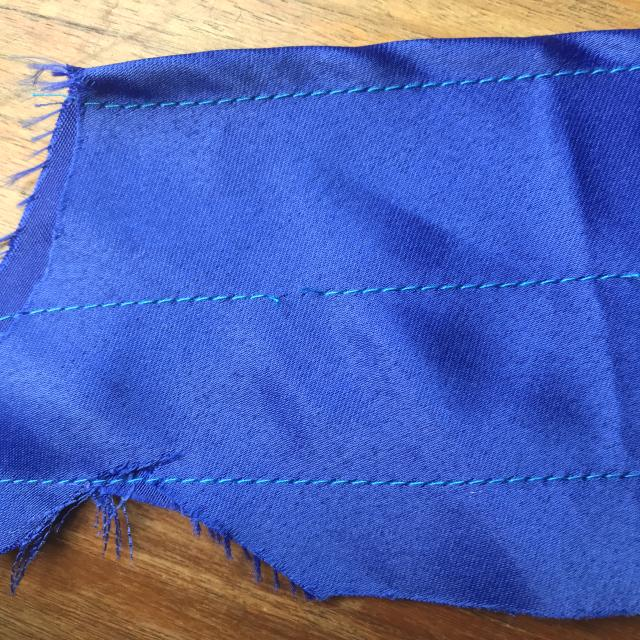broken: (240, 272, 344, 320)
good: (240, 71, 438, 112), (320, 468, 486, 506), (422, 268, 552, 304)
